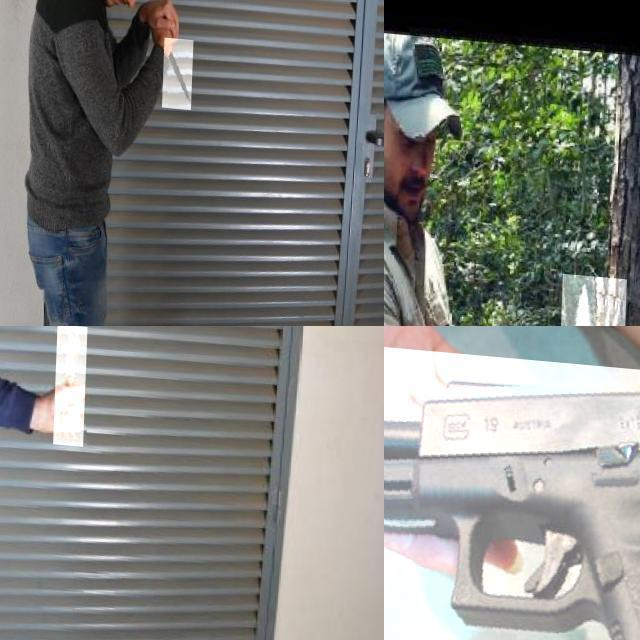-: (558, 264, 629, 326), (56, 326, 90, 440), (164, 32, 196, 104)
gun-knife-thesis - v11 Yolov5 augmented: (384, 341, 640, 640)
